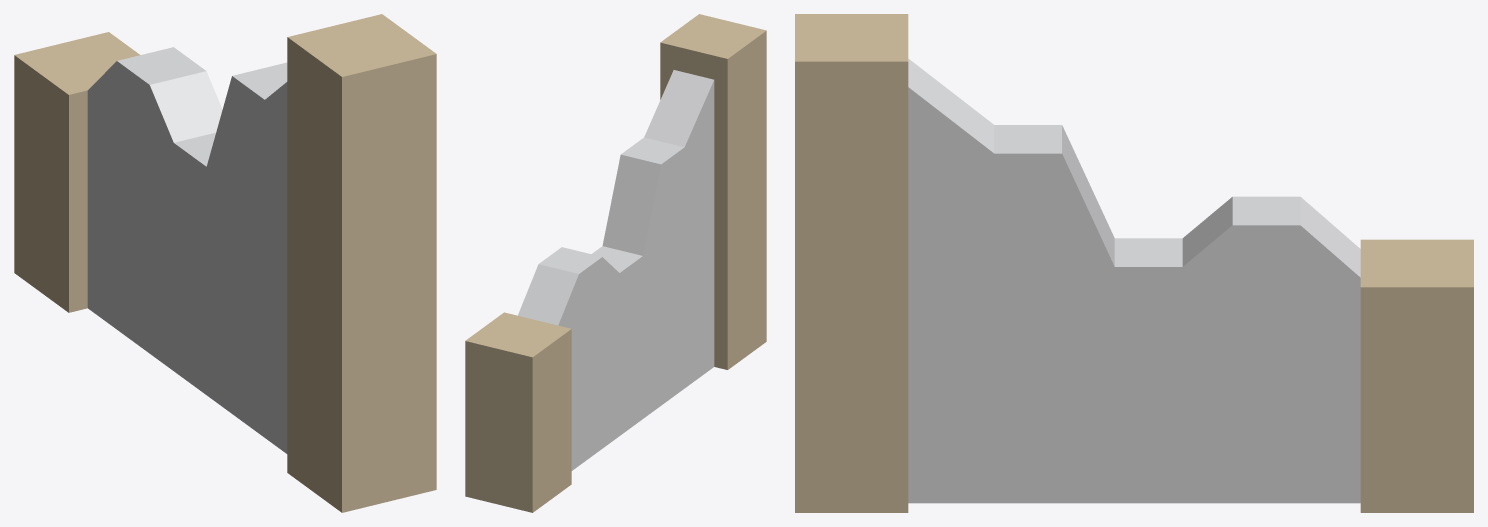
File: Wood_Broken_Wall_01.glb
The picture shows the model from 3 angles, left to right: view 1: azimuth 30°, elevation 25°; view 2: azimuth 150°, elevation 25°; view 3: azimuth 270°, elevation 25°; orthographic projection. The views are drawn at different scales.
Parts seen in each view (by area): view 1: Mesh1 Wood_Broken_Wall Model; view 2: Mesh1 Wood_Broken_Wall Model; view 3: Mesh1 Wood_Broken_Wall Model.
Part boxes in pixels (x1=…): Mesh1 Wood_Broken_Wall Model: x1=14, y1=14, x2=436, y2=512; Mesh1 Wood_Broken_Wall Model: x1=465, y1=14, x2=766, y2=512; Mesh1 Wood_Broken_Wall Model: x1=795, y1=14, x2=1473, y2=512.
Size of the model in its own units: 0.5 by 2.2 by 3.
